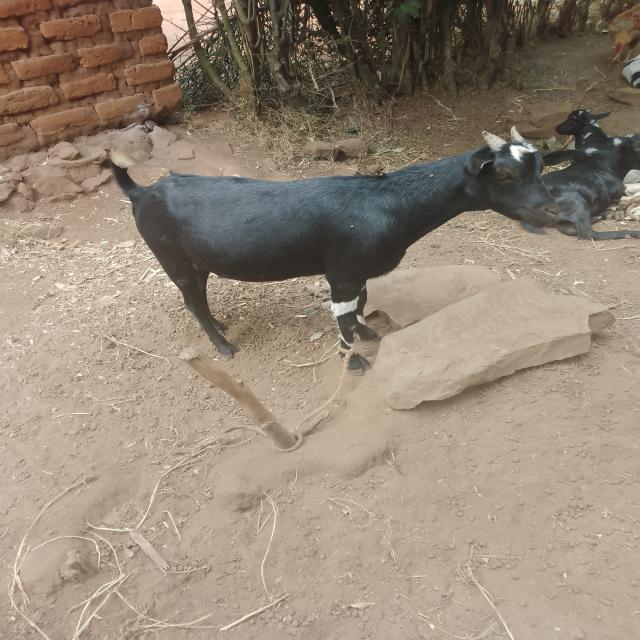goat: (54, 74, 598, 388)
